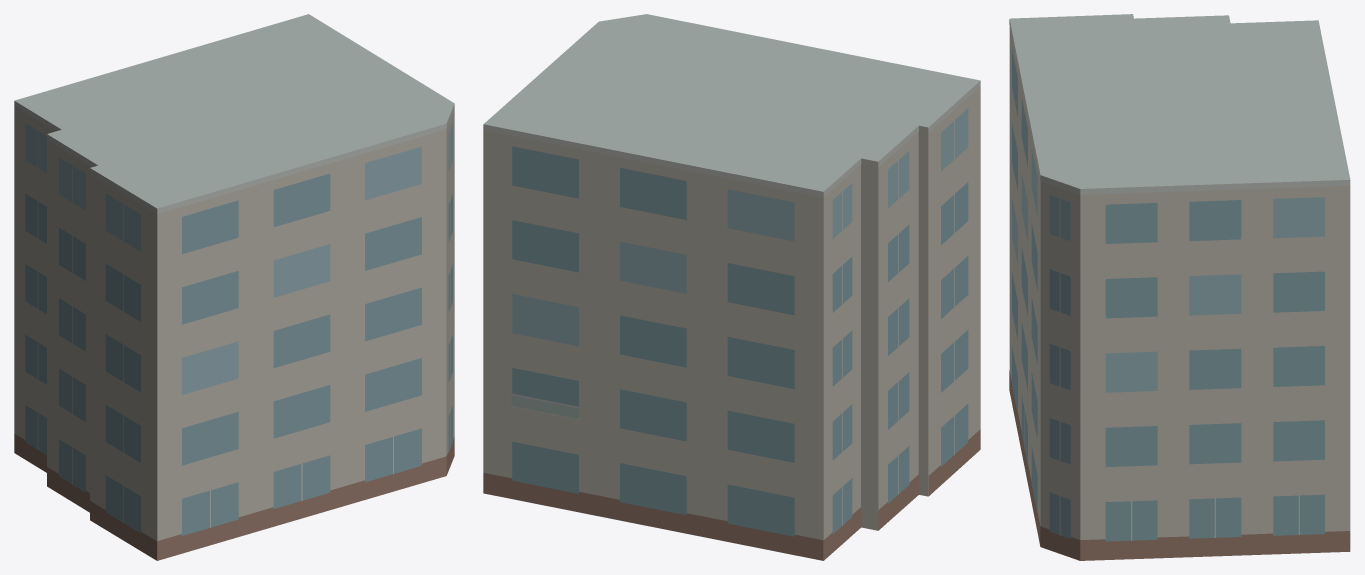
Rendered from survey-upis-32639310.glb.
3 renders of one model, left to right at view 1: azimuth 30°, elevation 25°; view 2: azimuth 150°, elevation 25°; view 3: azimuth 270°, elevation 25°, orthographic. The views are drawn at different scales.
Visible parts, largest first — view 1: survey-upis-32639310.tmp; view 2: survey-upis-32639310.tmp; view 3: survey-upis-32639310.tmp.
Boxes of the visible parts, x1,y1,x2,y2 form: survey-upis-32639310.tmp: (14,14,454,560); survey-upis-32639310.tmp: (483,14,980,560); survey-upis-32639310.tmp: (1009,14,1350,560).
Bounding box in the file's own units: 15.4 × 15.25 × 12.68.
